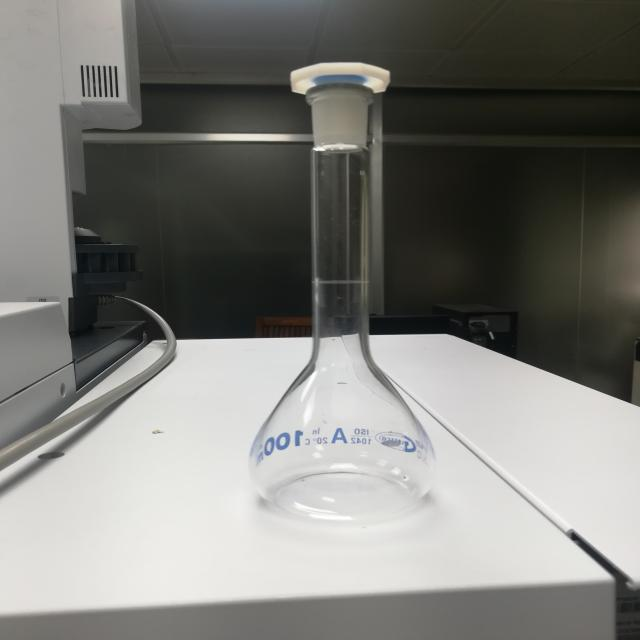Volumetric_Flask: (222, 18, 473, 558)
